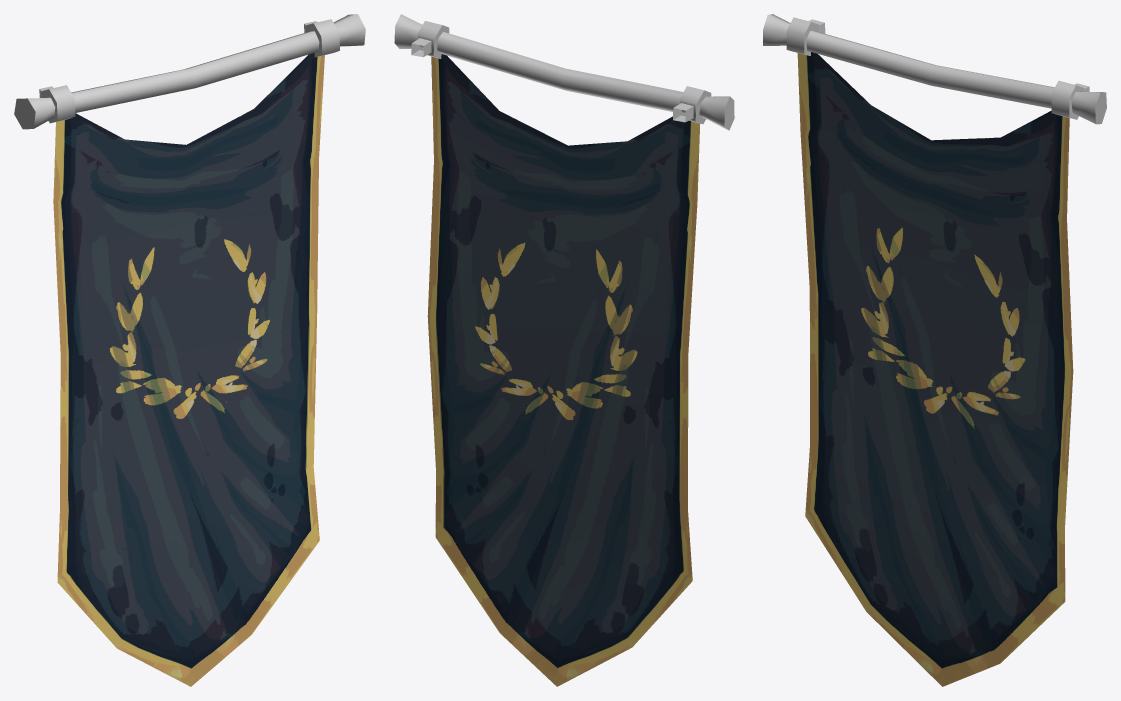
File: SM_PROP_flag_dungeon_08.fbx
The picture shows the model from 3 angles, left to right: view 1: azimuth 30°, elevation 25°; view 2: azimuth 150°, elevation 25°; view 3: azimuth 330°, elevation 25°; orthographic projection.
Visible parts, largest first — view 1: SM_PROP_flag_dungeon_08; view 2: SM_PROP_flag_dungeon_08; view 3: SM_PROP_flag_dungeon_08.
Boxes of the visible parts, x1=… form: SM_PROP_flag_dungeon_08: x1=14, y1=14, x2=365, y2=686; SM_PROP_flag_dungeon_08: x1=394, y1=14, x2=734, y2=686; SM_PROP_flag_dungeon_08: x1=763, y1=14, x2=1106, y2=686.
Size of the model in its own units: 125 by 226 by 14.63.
